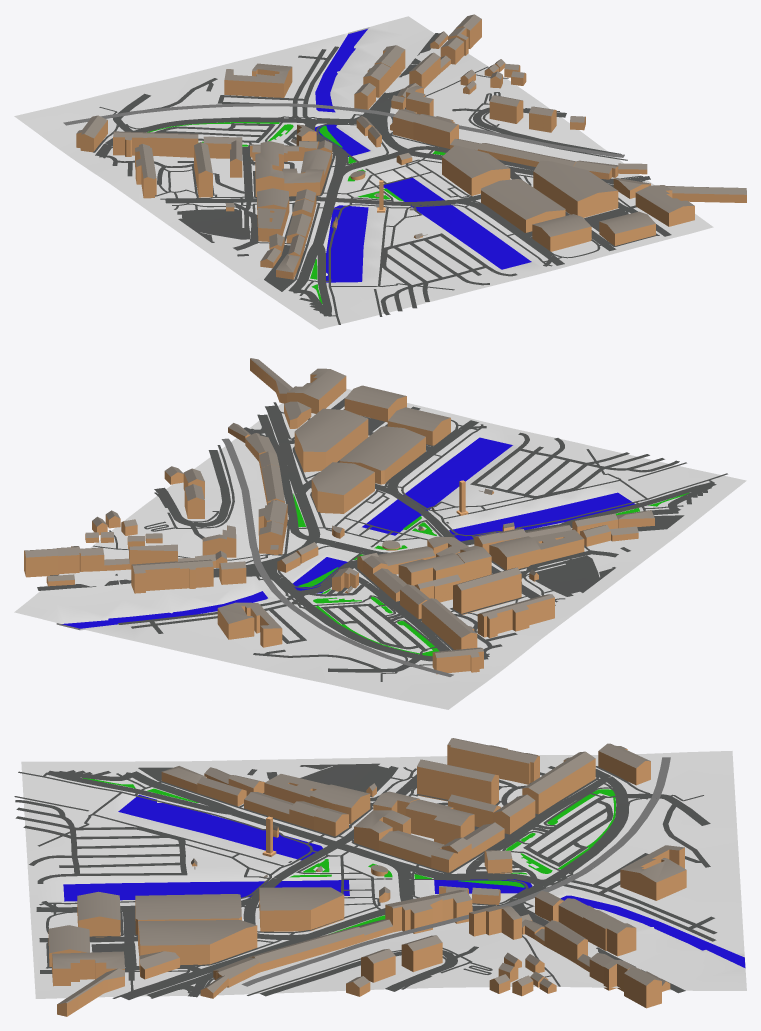
The model's file is RijekaŠkoljić_Converted_MeshesOnly_v2.fbx.
3 renders of one model, top to bottom at view 1: azimuth 30°, elevation 25°; view 2: azimuth 150°, elevation 25°; view 3: azimuth 270°, elevation 25°, orthographic. The views are drawn at different scales.
Parts seen in each view (by area): view 1: Terrain.001, map_3.osm_buildings, map_3.osm_water, map_3.osm_paths_footway, map_3.osm_roads_service, map_3.osm_roads_primary, map_3.osm_roads_secondary, map_3.osm_areas_pedestrian, map_3.osm_roads_tertiary, map_3.osm_railways, map_3.osm_roads_residential, map_3.osm_vegetation (+1 smaller); view 2: Terrain.001, map_3.osm_buildings, map_3.osm_water, map_3.osm_paths_footway, map_3.osm_roads_service, map_3.osm_roads_primary, map_3.osm_roads_tertiary, map_3.osm_roads_secondary, map_3.osm_areas_pedestrian, map_3.osm_railways, map_3.osm_roads_residential, map_3.osm_vegetation; view 3: Terrain.001, map_3.osm_buildings, map_3.osm_water, map_3.osm_paths_footway, map_3.osm_roads_service, map_3.osm_roads_primary, map_3.osm_roads_residential, map_3.osm_roads_secondary, map_3.osm_roads_tertiary, map_3.osm_railways, map_3.osm_areas_pedestrian, map_3.osm_vegetation.
Part boxes in pixels (x1,y1,x2,y2): Terrain.001: (14, 16, 713, 329); map_3.osm_buildings: (76, 14, 746, 279); map_3.osm_water: (315, 29, 531, 282); map_3.osm_paths_footway: (93, 92, 659, 324); map_3.osm_roads_service: (99, 46, 636, 315); map_3.osm_roads_primary: (288, 89, 613, 291); map_3.osm_roads_secondary: (95, 118, 564, 265); map_3.osm_areas_pedestrian: (177, 208, 626, 291); map_3.osm_roads_tertiary: (292, 107, 650, 316); map_3.osm_railways: (63, 103, 624, 157); map_3.osm_roads_residential: (108, 33, 671, 251); map_3.osm_vegetation: (147, 122, 445, 303); Terrain.001: (14, 382, 746, 709); map_3.osm_buildings: (24, 358, 654, 674); map_3.osm_water: (62, 437, 635, 628); map_3.osm_paths_footway: (55, 402, 727, 672); map_3.osm_roads_service: (118, 418, 711, 668); map_3.osm_roads_primary: (50, 405, 678, 595); map_3.osm_roads_tertiary: (154, 427, 716, 540); map_3.osm_roads_secondary: (289, 420, 555, 661); map_3.osm_areas_pedestrian: (362, 416, 684, 596); map_3.osm_railways: (221, 438, 453, 676); map_3.osm_roads_residential: (37, 397, 450, 672); map_3.osm_vegetation: (293, 492, 689, 656); Terrain.001: (21, 751, 746, 998); map_3.osm_buildings: (48, 738, 686, 1016); map_3.osm_water: (63, 794, 745, 967); map_3.osm_paths_footway: (14, 766, 673, 998); map_3.osm_roads_service: (15, 766, 717, 980); map_3.osm_roads_primary: (120, 771, 547, 999); map_3.osm_roads_residential: (39, 778, 710, 997); map_3.osm_roads_secondary: (36, 769, 628, 939); map_3.osm_roads_tertiary: (47, 770, 457, 997); map_3.osm_railways: (241, 757, 670, 986); map_3.osm_areas_pedestrian: (91, 763, 398, 966); map_3.osm_vegetation: (82, 778, 615, 933).
Bounding box in the file's own units: 449 × 39.89 × 510.
